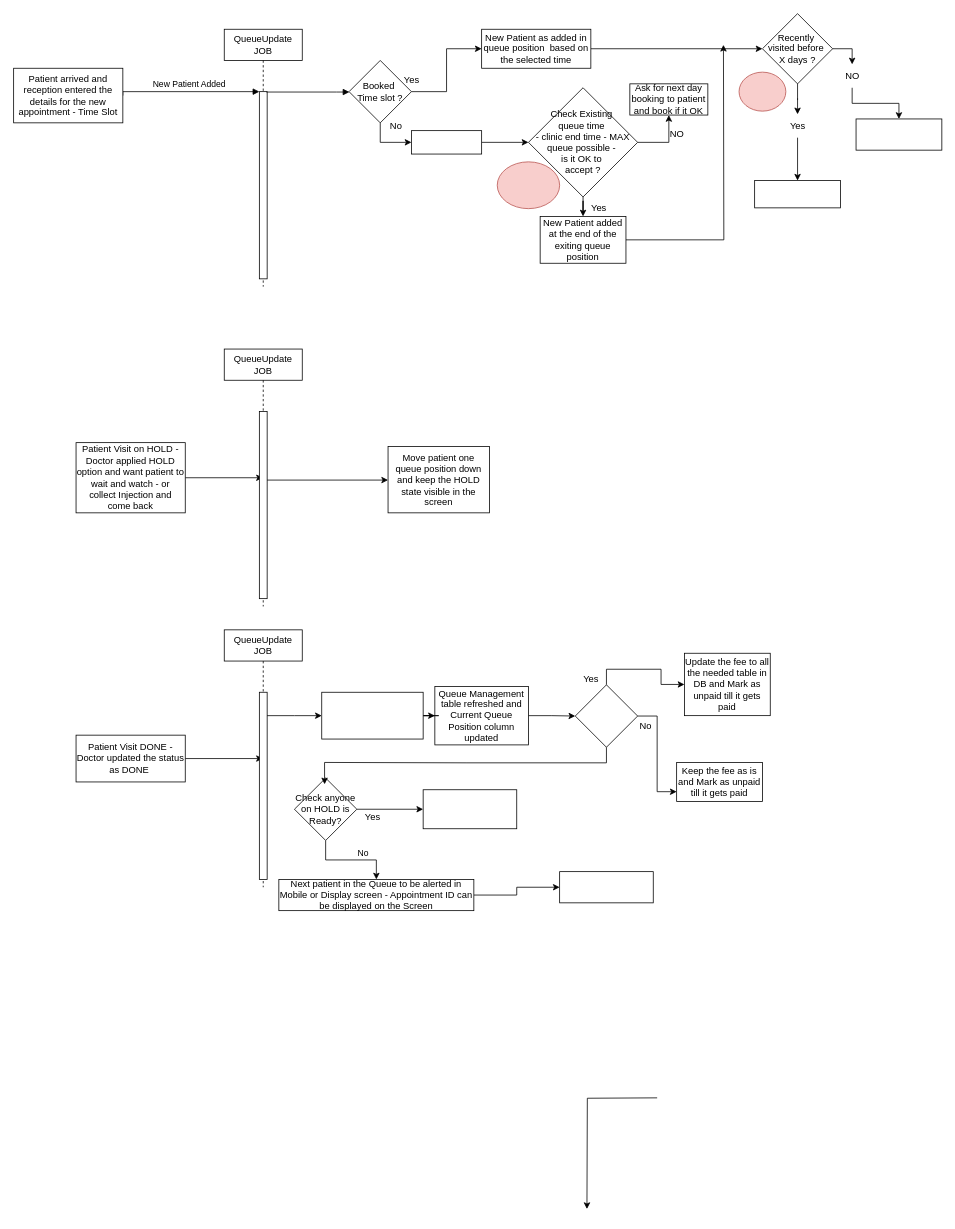
The diagram is 955 pixels wide and 1229 high, and some of its shapes have lost their labels. The shapes that lost their labels are listed below. From the top down, each one's centre as x and y in pixels, then its label:
pixel 762 91: X to be configured
pixel 446 142: Join the Queue Option Check
pixel 898 134: No reduced fee apply - update table
pixel 528 185: MAX is to be configured
pixel 797 194: Reduced Fee apply - update table
pixel 372 715: Move the Patient from Qmanagement table to report table with all details
pixel 606 715: Check any fee provided by Doctor?
pixel 469 809: Change the state from "HOLD" to "Visiting"
pixel 606 887: Patient visiting state to be change to "Visiting"
